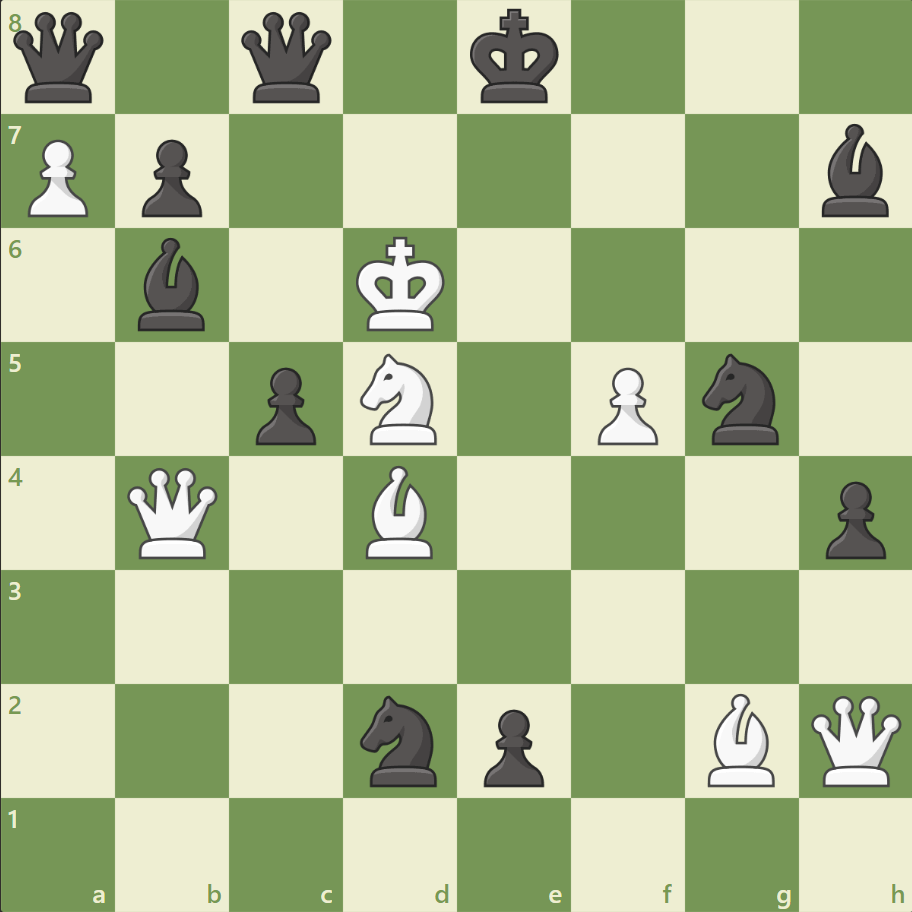B: (358, 460, 442, 563), (698, 687, 782, 790)
K: (351, 231, 451, 339)
N: (351, 348, 449, 450)
P: (20, 132, 95, 223), (588, 359, 662, 450)
Q: (124, 463, 223, 562), (805, 690, 904, 789)
b: (131, 233, 215, 336), (812, 120, 896, 222)
k: (465, 4, 565, 112)
n: (351, 688, 449, 791), (692, 348, 789, 450)
p: (133, 132, 208, 223), (247, 359, 322, 450), (474, 700, 549, 791), (815, 473, 889, 564)
q: (10, 9, 109, 108), (237, 9, 336, 108)
